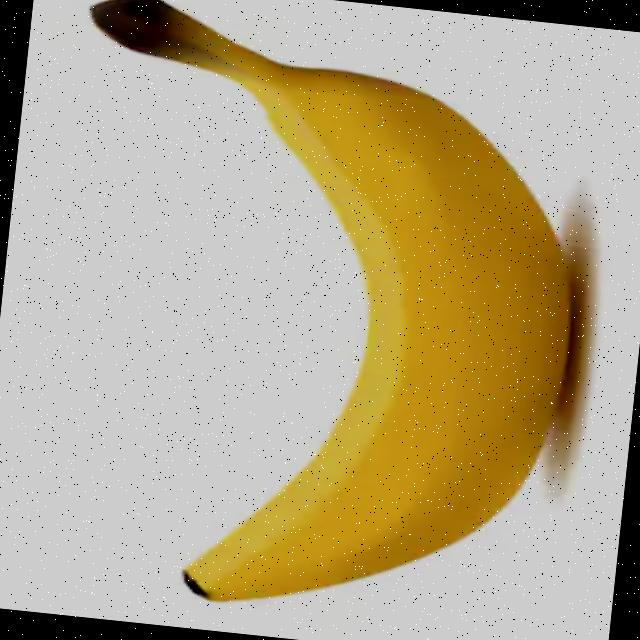banana: (25, 0, 605, 637)
